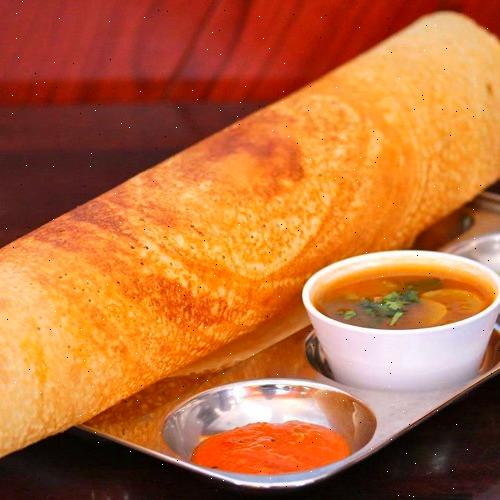dosa: (0, 65, 500, 260)
sambhar: (313, 247, 492, 346)
